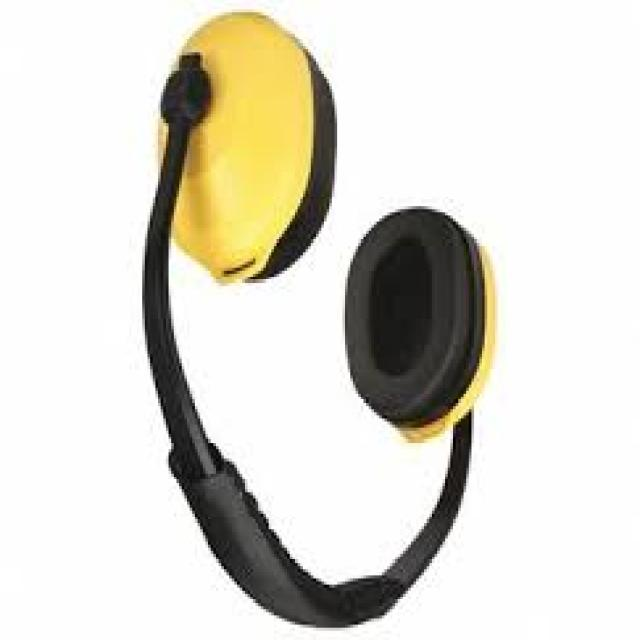Ear-Protection: (150, 12, 335, 292), (328, 211, 502, 448)
